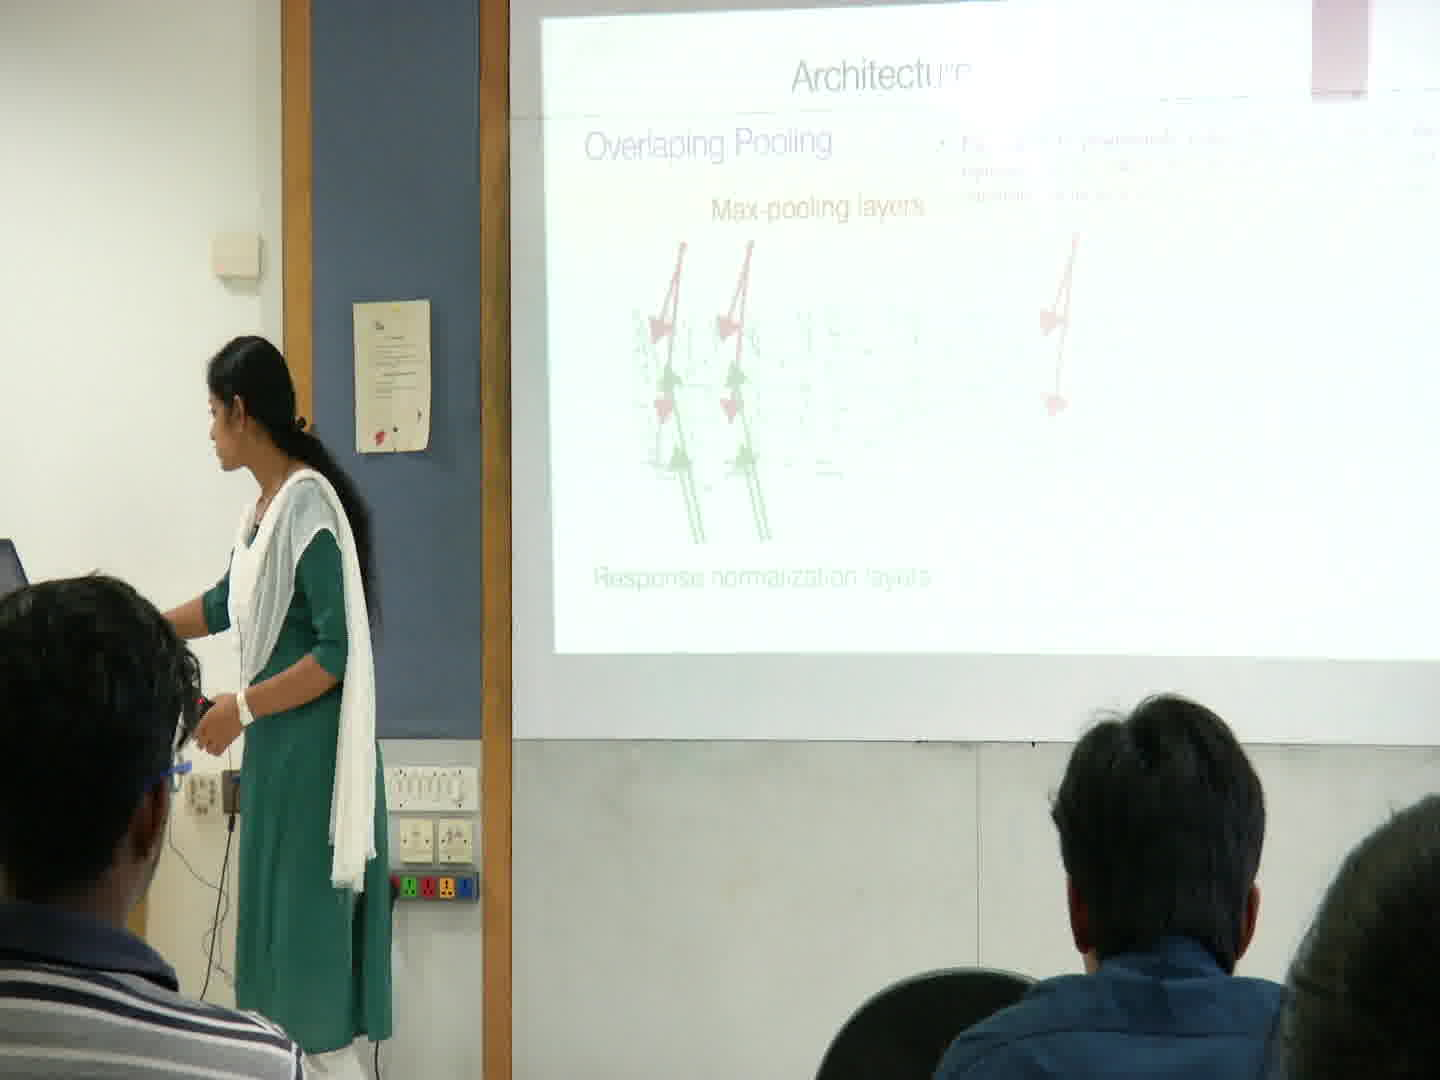fig: (612, 234, 888, 562)
